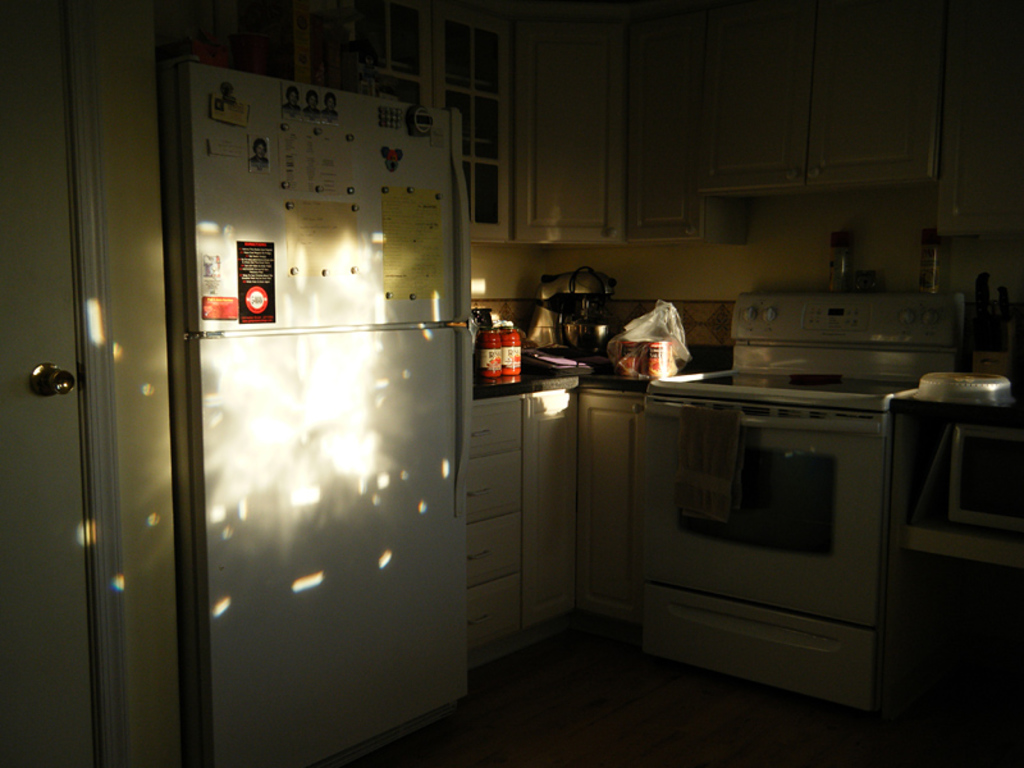cabinet door: (523, 30, 618, 243), (811, 31, 931, 172), (699, 27, 804, 179), (621, 26, 696, 234), (946, 48, 1024, 234), (583, 396, 649, 605), (530, 396, 582, 598), (468, 572, 524, 639), (471, 519, 526, 571), (476, 410, 525, 457), (478, 460, 524, 510)
door: (0, 61, 115, 751)
handle: (670, 607, 845, 656), (449, 324, 478, 502), (445, 157, 476, 319), (38, 365, 78, 406)
refrigerator door: (212, 329, 478, 693), (194, 73, 470, 321)
